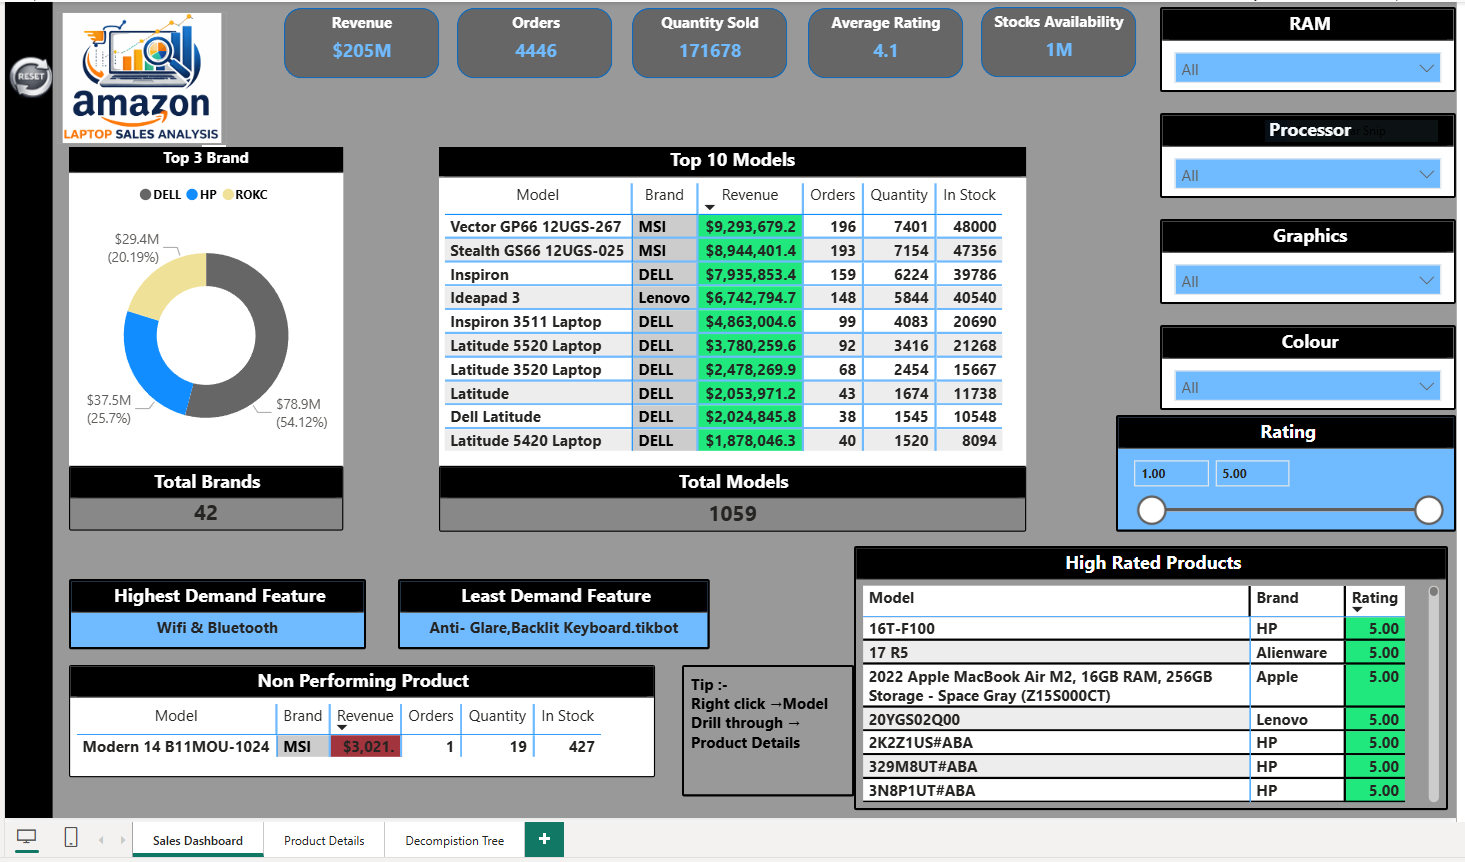

Layout of this report page (visuals, bound fields, positions):
{"tool":"powerbi","page":{"name":"Sales Dashboard","canvas":[1280,720],"ordinal":0},"visuals":[{"type":"pivotTable","title":"Top 10 Models","fields":{"Values":["Min(amazon_laptop_prices_v01 (1).brand)","\"Measures\". Revenue","\"Measures\".Orders","\"Measures\".Quantity Sold","\"Measures\".Stock Avaiblity"],"Rows":["amazon_laptop_prices_v01 (1).model"]},"box":[383,128,518,281],"z":0},{"type":"shape","box":[0,0,42,720],"z":1000},{"type":"image","box":[46,9,150,116],"z":2000},{"type":"shape","box":[246,5,137,62],"z":3000},{"type":"card","title":"Revenue","fields":{"Values":["\"Measures\". Revenue"]},"box":[240,9,150,54],"z":4000},{"type":"shape","box":[399,5,137,62],"z":5000},{"type":"shape","box":[553,5,137,62],"z":6000},{"type":"card","title":"Quantity Sold","fields":{"Values":["\"Measures\".Quantity Sold"]},"box":[547,9,150,54],"z":7000},{"type":"card","title":"Orders","fields":{"Values":["\"Measures\".Orders"]},"box":[393,9,150,54],"z":8000},{"type":"shape","box":[708,5,137,62],"z":9000},{"type":"card","title":"Average Rating","fields":{"Values":["\"Measures\".Average Rating (Display)"]},"box":[702,9,150,54],"z":10000},{"type":"shape","box":[861,4,137,62],"z":11000},{"type":"card","title":"Stocks Availability","fields":{"Values":["\"Measures\".Stock Avaiblity"]},"box":[855,8,150,54],"z":12000},{"type":"donutChart","title":"Top 3 Brand","fields":{"Category":["amazon_laptop_prices_v01 (1).brand"],"Y":["\"Measures\". Revenue"]},"box":[56.4,128,241.9,281.2],"z":13000},{"type":"slicer","title":"RAM","fields":{"Values":["amazon_laptop_prices_v01 (1).ram"]},"box":[1019,4,261,75],"z":14000},{"type":"slicer","title":"Processor","fields":{"Values":["amazon_laptop_prices_v01 (1).cpu"]},"box":[1019,97.7,261,75],"z":15000},{"type":"slicer","title":"Graphics","fields":{"Values":["amazon_laptop_prices_v01 (1).graphics"]},"box":[1019,191.3,261,75],"z":16000},{"type":"slicer","title":"Colour","fields":{"Values":["amazon_laptop_prices_v01 (1).color"]},"box":[1019,285,261,75],"z":17000},{"type":"card","title":"Total Brands","fields":{"Values":["Count(amazon_laptop_prices_v01 (1).brand)"]},"box":[56.4,409.2,241.9,57.4],"z":18000},{"type":"card","title":"Total Models","fields":{"Values":["Count(amazon_laptop_prices_v01 (1).model)"]},"box":[383,409,518,58],"z":19000},{"type":"pivotTable","title":"High Rated Products","fields":{"Rows":["amazon_laptop_prices_v01 (1).model"],"Values":["Min(amazon_laptop_prices_v01 (1).brand)","Avg(amazon_laptop_prices_v01 (1).rating)"]},"box":[749,480,524,233],"z":20000},{"type":"card","title":"Highest Demand Feature","fields":{"Values":["Min(amazon_laptop_prices_v01 (1).special_features)"]},"box":[56.4,509,262,62.5],"z":21000},{"type":"card","title":"Least Demand Feature","fields":{"Values":["Min(amazon_laptop_prices_v01 (1).special_features)"]},"box":[347,509,275,62],"z":22000},{"type":"slicer","title":"Rating","fields":{"Values":["amazon_laptop_prices_v01 (1).rating"]},"box":[980,364,300,103],"z":23000},{"type":"pivotTable","title":"Non Performing Product","fields":{"Values":["Min(amazon_laptop_prices_v01 (1).brand)","\"Measures\". Revenue","\"Measures\".Orders","\"Measures\".Quantity Sold","\"Measures\".Stock Avaiblity"],"Rows":["amazon_laptop_prices_v01 (1).model"]},"box":[56.4,584.6,517,98.8],"z":24000},{"type":"actionButton","box":[0,41.3,46.4,50.4],"z":25000},{"type":"textbox","box":[597,585,152,116],"z":26000}]}

Visuals, with their boxes on the page's 1280x720 design canvas (x1, y1, x2, y2). These are canvas units, not pixel positions in the 1465x862 screenshot, which may show the page scaled, cropped or inside an application window:
"Top 10 Models" pivotTable: <bbox>383, 128, 901, 409</bbox>
shape: <bbox>0, 0, 42, 720</bbox>
image: <bbox>46, 9, 196, 125</bbox>
shape: <bbox>246, 5, 383, 67</bbox>
"Revenue" card: <bbox>240, 9, 390, 63</bbox>
shape: <bbox>399, 5, 536, 67</bbox>
shape: <bbox>553, 5, 690, 67</bbox>
"Quantity Sold" card: <bbox>547, 9, 697, 63</bbox>
"Orders" card: <bbox>393, 9, 543, 63</bbox>
shape: <bbox>708, 5, 845, 67</bbox>
"Average Rating" card: <bbox>702, 9, 852, 63</bbox>
shape: <bbox>861, 4, 998, 66</bbox>
"Stocks Availability" card: <bbox>855, 8, 1005, 62</bbox>
"Top 3 Brand" donutChart: <bbox>56, 128, 298, 409</bbox>
"RAM" slicer: <bbox>1019, 4, 1280, 79</bbox>
"Processor" slicer: <bbox>1019, 98, 1280, 173</bbox>
"Graphics" slicer: <bbox>1019, 191, 1280, 266</bbox>
"Colour" slicer: <bbox>1019, 285, 1280, 360</bbox>
"Total Brands" card: <bbox>56, 409, 298, 467</bbox>
"Total Models" card: <bbox>383, 409, 901, 467</bbox>
"High Rated Products" pivotTable: <bbox>749, 480, 1273, 713</bbox>
"Highest Demand Feature" card: <bbox>56, 509, 318, 572</bbox>
"Least Demand Feature" card: <bbox>347, 509, 622, 571</bbox>
"Rating" slicer: <bbox>980, 364, 1280, 467</bbox>
"Non Performing Product" pivotTable: <bbox>56, 585, 573, 683</bbox>
actionButton: <bbox>0, 41, 46, 92</bbox>
textbox: <bbox>597, 585, 749, 701</bbox>
